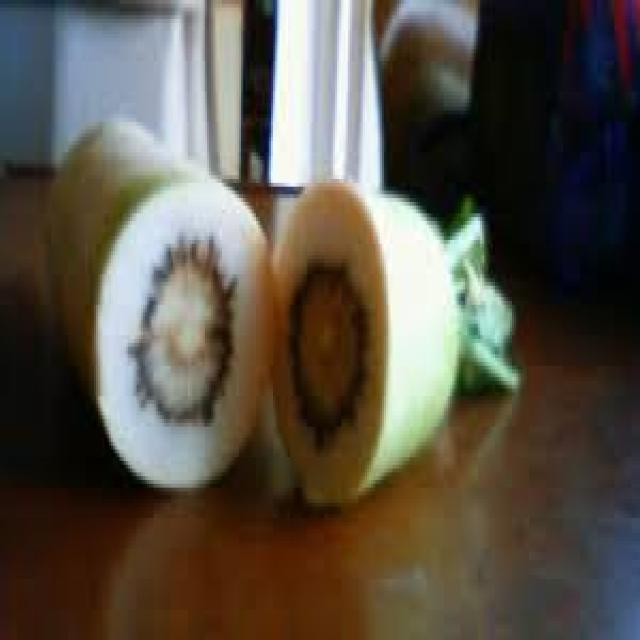food_waste: (51, 118, 457, 499)
